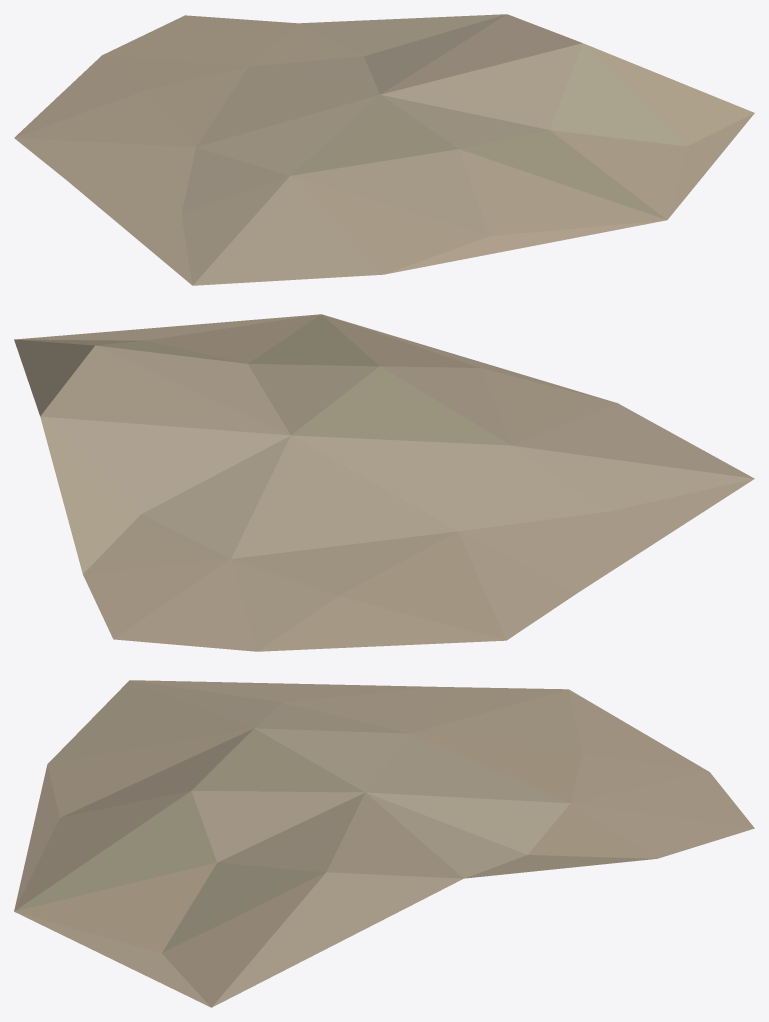
File: kit_loess.glb
3 views of the same model, one above another, from view 1: azimuth 30°, elevation 25°; view 2: azimuth 150°, elevation 25°; view 3: azimuth 270°, elevation 25° (orthographic). The views are drawn at different scales.
Visible parts, largest first — view 1: kit_loess; view 2: kit_loess; view 3: kit_loess.
Part boxes in pixels (<box>): kit_loess: <box>14,14,754,285</box>; kit_loess: <box>14,314,754,651</box>; kit_loess: <box>14,680,754,1007</box>.
Size of the model in its own units: 33.33 by 3.29 by 31.85.
